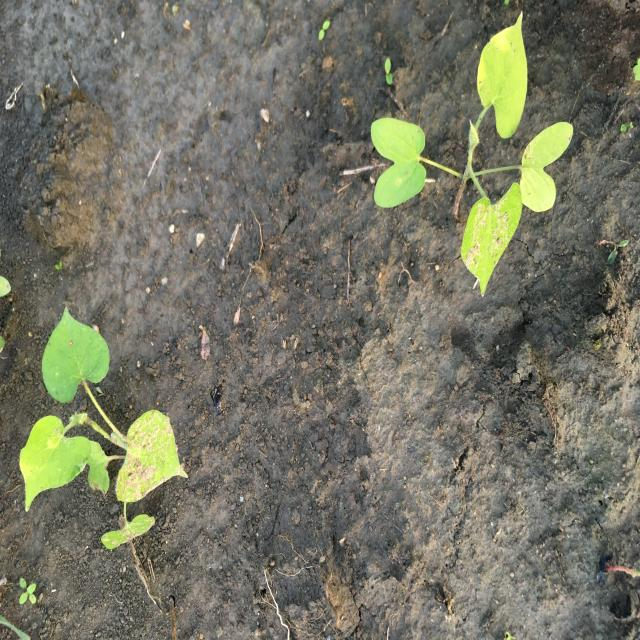MorningGlory: (369, 6, 577, 299), (18, 304, 191, 553)
